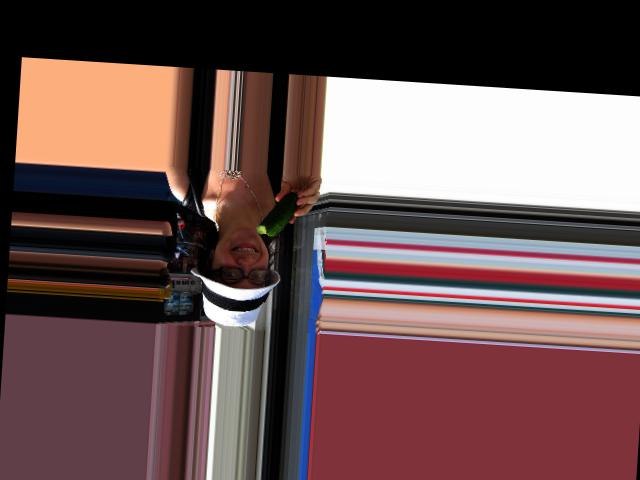cucumber: (257, 189, 300, 237)
